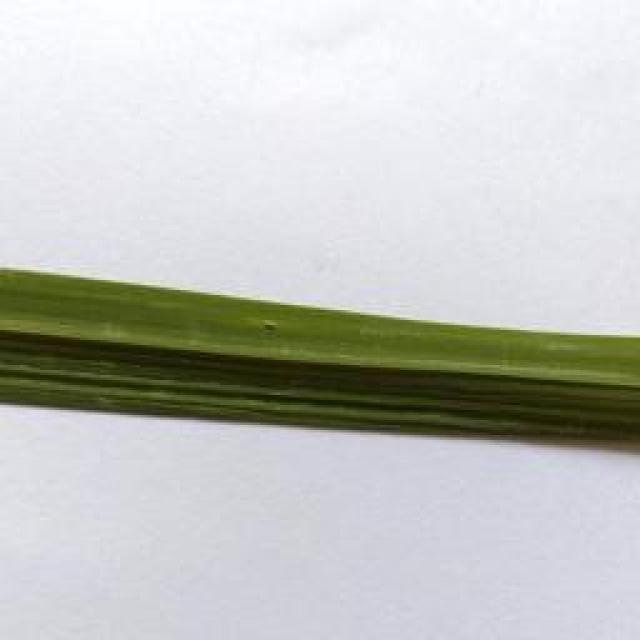Healthy-Plant: (0, 266, 640, 440)
